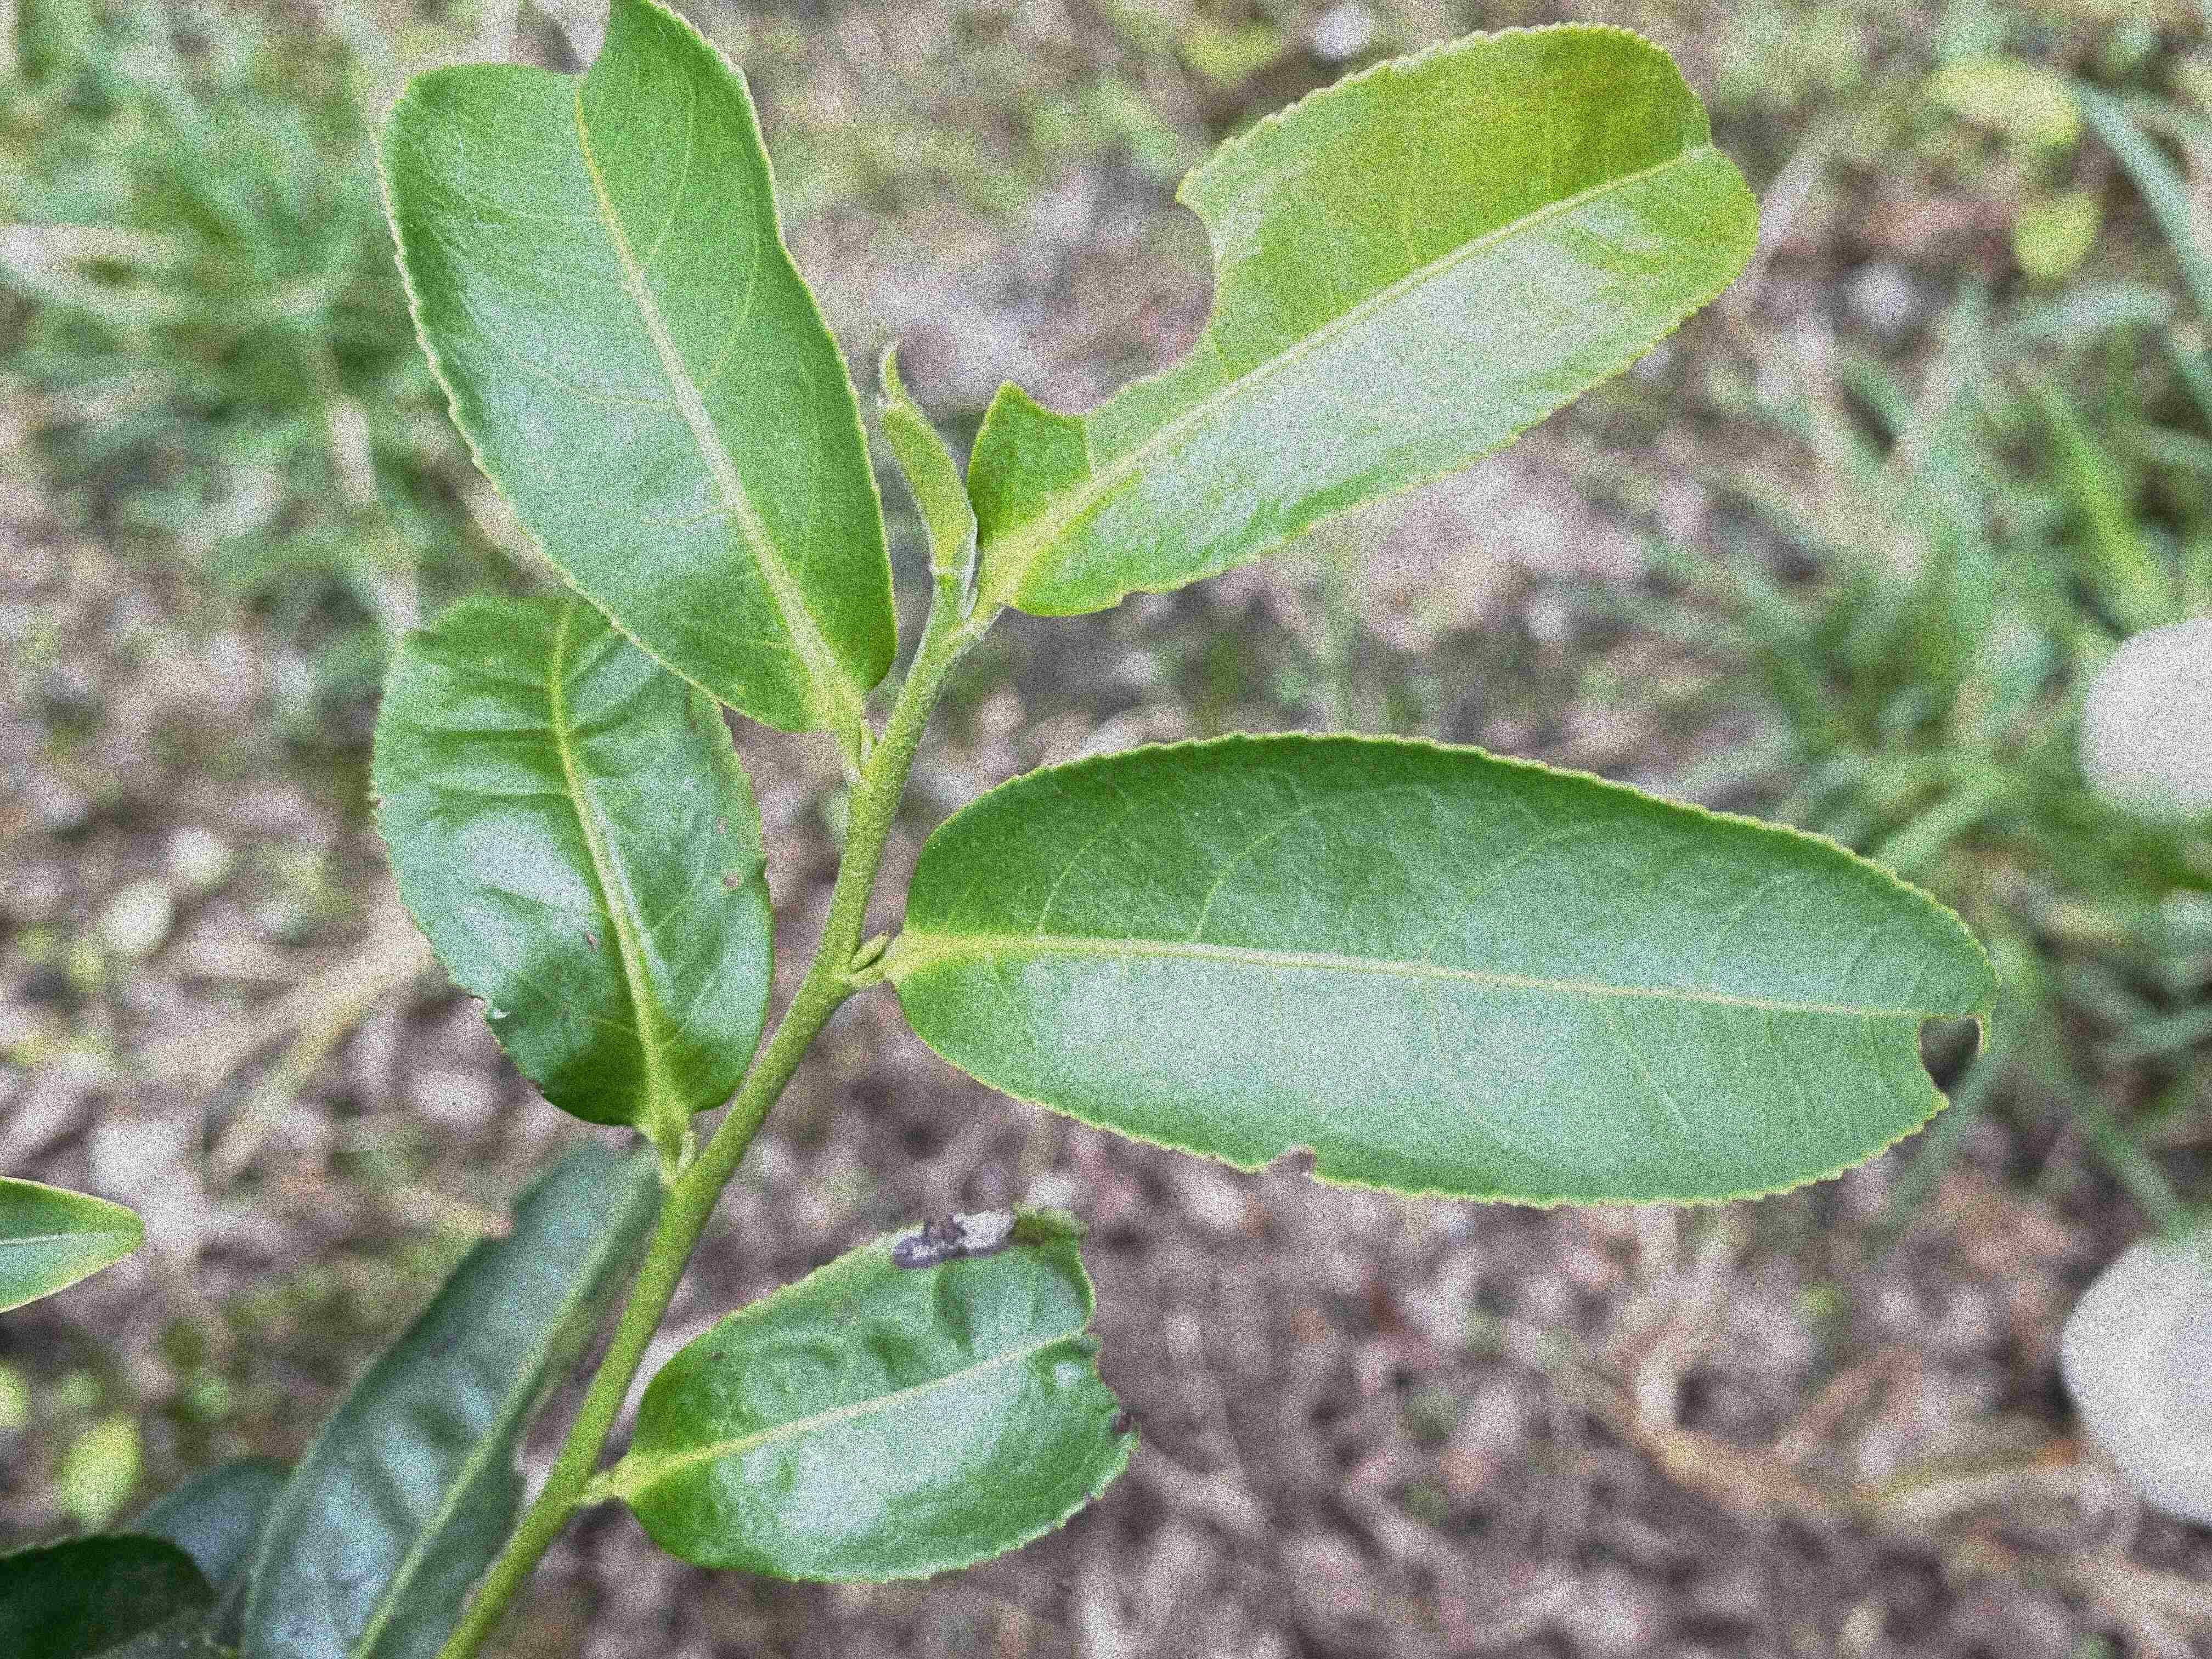chihuo_high: (904, 728, 2005, 1209)
chihuo_low: (963, 17, 1764, 619)
healthy: (369, 2, 899, 735)
tanju_low: (364, 582, 780, 1129)
